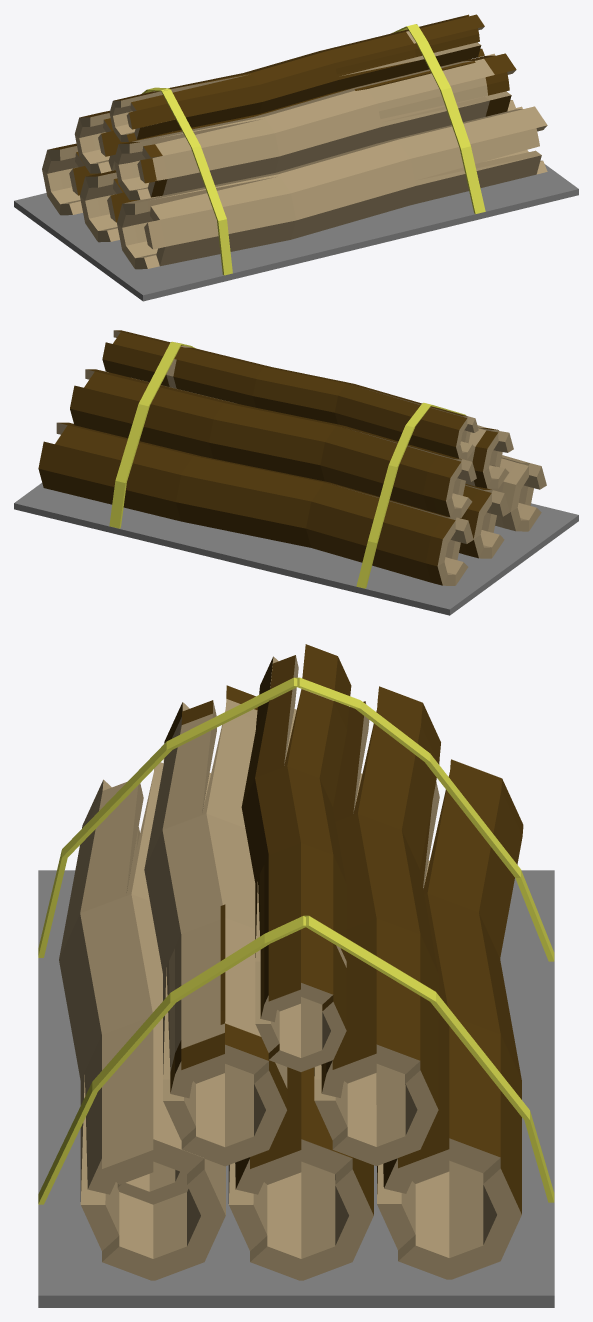
File: wood_element.fbx
3 views of the same model, one above another, from view 1: azimuth 30°, elevation 25°; view 2: azimuth 150°, elevation 25°; view 3: azimuth 270°, elevation 25° (orthographic). The views are drawn at different scales.
Visible parts, largest first — view 1: wood_element; view 2: wood_element; view 3: wood_element.
Part boxes in pixels (<box>): wood_element: <box>14,14,578,301</box>; wood_element: <box>14,330,578,615</box>; wood_element: <box>38,644,554,1307</box>.
Bounding box in the file's own units: 236 × 75.05 × 121.
